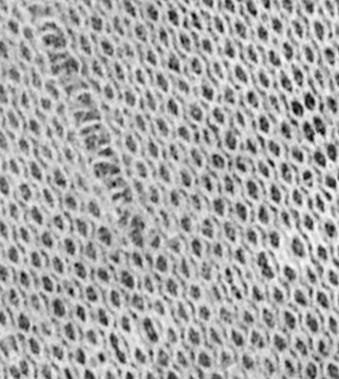slub: (29, 16, 159, 255)
